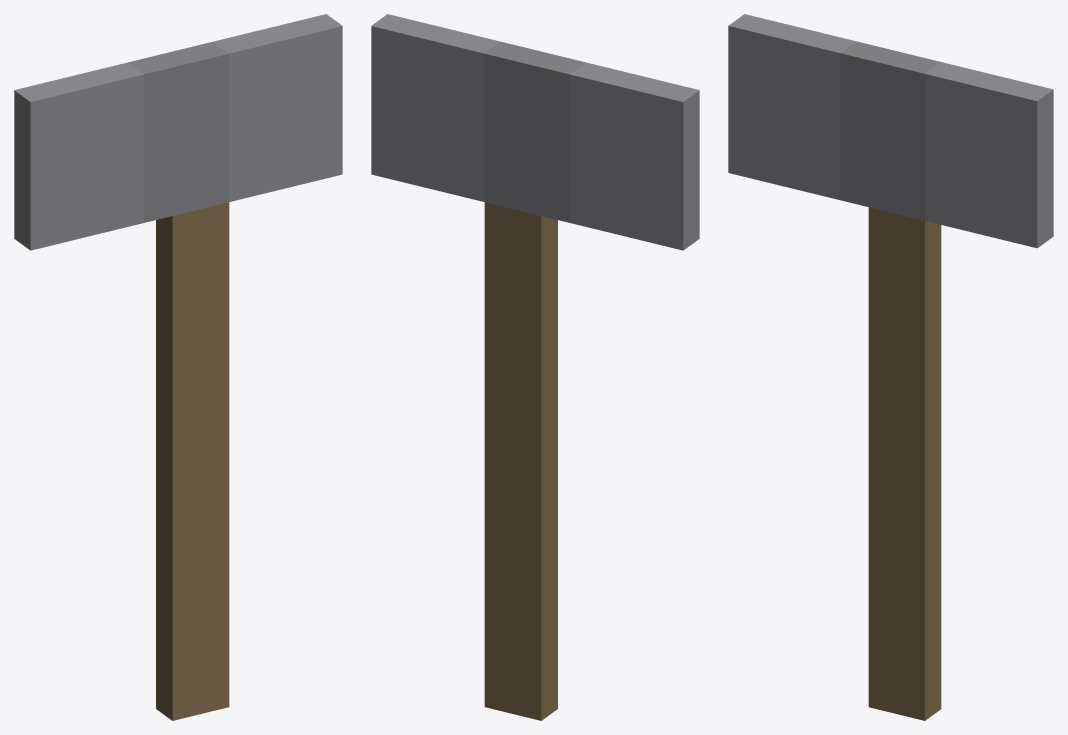
Rendered from pico_minero_01.glb.
3 renders of one model, left to right at view 1: azimuth 30°, elevation 25°; view 2: azimuth 150°, elevation 25°; view 3: azimuth 330°, elevation 25°, orthographic.
Parts seen in each view (by area): view 1: pico_minero; view 2: pico_minero; view 3: pico_minero.
Part boxes in pixels (<box>): pico_minero: <box>14,14,342,720</box>; pico_minero: <box>371,14,699,720</box>; pico_minero: <box>728,14,1053,720</box>.
Size of the model in its own units: 0.9167 by 1.83 by 0.0833.
